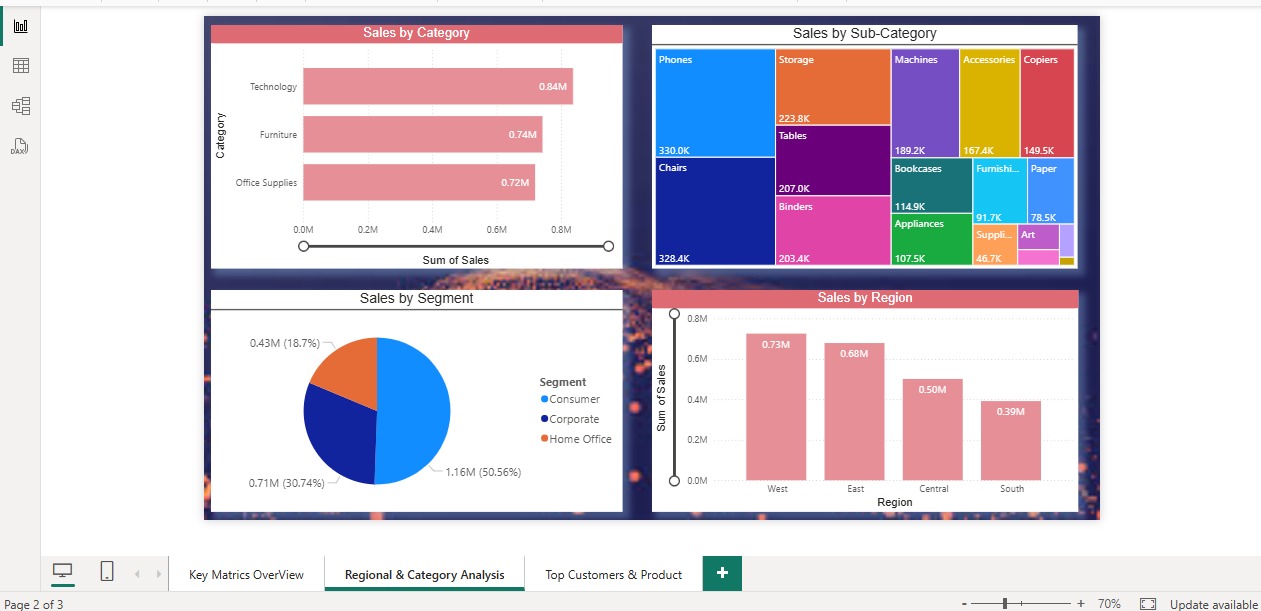

Layout of this report page (visuals, bound fields, positions):
{"tool":"powerbi","page":{"name":"Regional & Category Analysis","canvas":[1280,720],"ordinal":1},"visuals":[{"type":"clusteredBarChart","title":"Sales by Category","fields":{"Y":["Sum(Sample - Superstore.Sales)"],"Category":["Sample - Superstore.Category"]},"box":[9.6,12.4,587.7,348.2],"z":0},{"type":"treemap","title":"Sales by Sub-Category","fields":{"Values":["Sum(Sample - Superstore.Sales)"],"Group":["Sample - Superstore.Sub-Category"]},"box":[640,12.4,608.3,348.2],"z":1000},{"type":"pieChart","title":"Sales by Segment","fields":{"Category":["Sample - Superstore.Segment"],"Y":["Sum(Sample - Superstore.Sales)"]},"box":[10.1,391.7,587.5,316.8],"z":2000},{"type":"clusteredColumnChart","title":"Sales by Region","fields":{"Category":["Sample - Superstore.Region"],"Y":["Sum(Sample - Superstore.Sales)"]},"box":[639.4,391.7,609.1,316.8],"z":3000}]}

Visuals, with their boxes on the page's 1280x720 design canvas (x1, y1, x2, y2). These are canvas units, not pixel positions in the 1261x611 screenshot, which may show the page scaled, cropped or inside an application window:
"Sales by Category" clusteredBarChart: 10 12 597 361
"Sales by Sub-Category" treemap: 640 12 1248 361
"Sales by Segment" pieChart: 10 392 598 708
"Sales by Region" clusteredColumnChart: 639 392 1248 708
